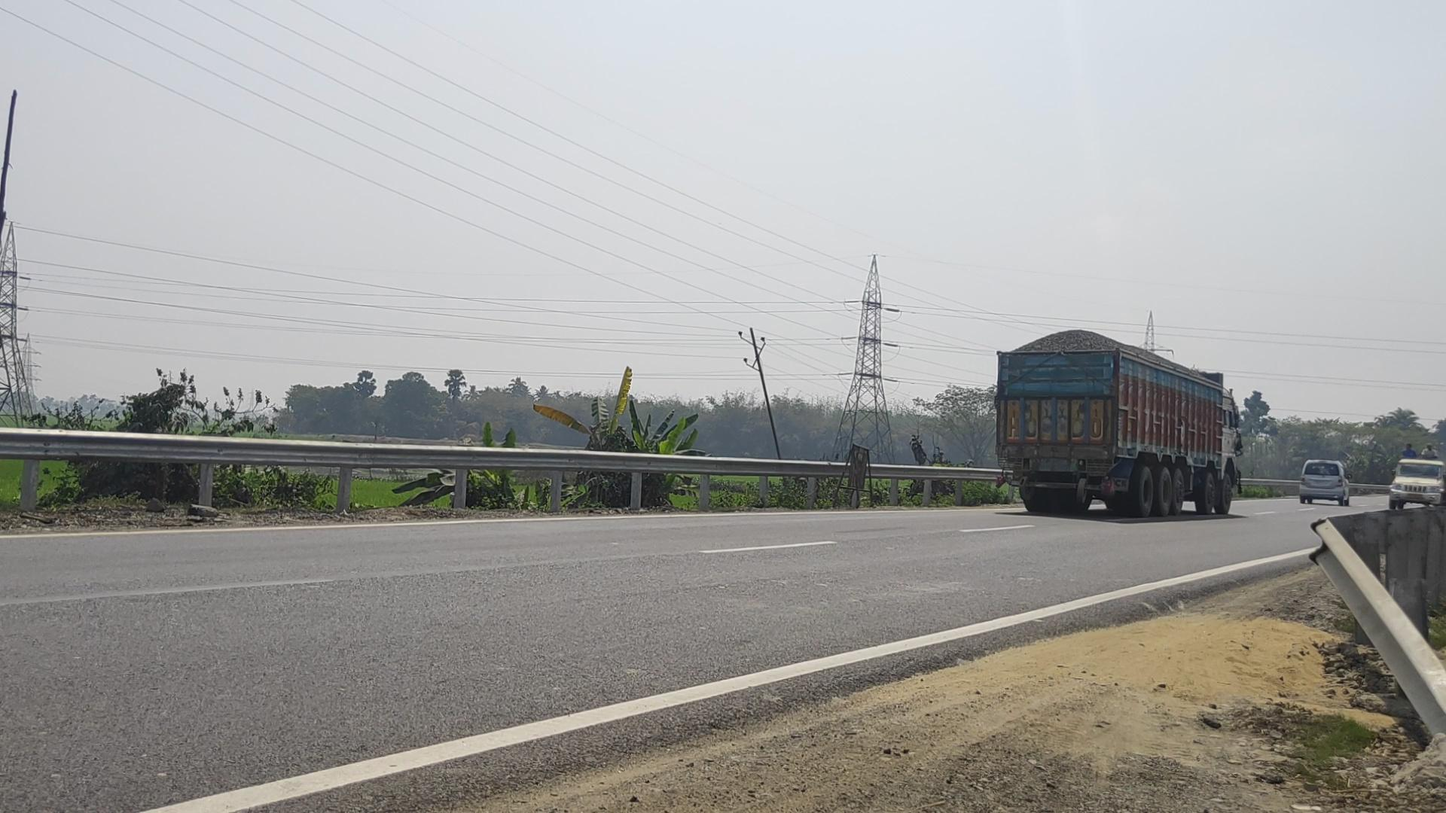car: (1299, 459, 1352, 506)
truck: (994, 330, 1243, 518)
van: (1387, 442, 1446, 512)
